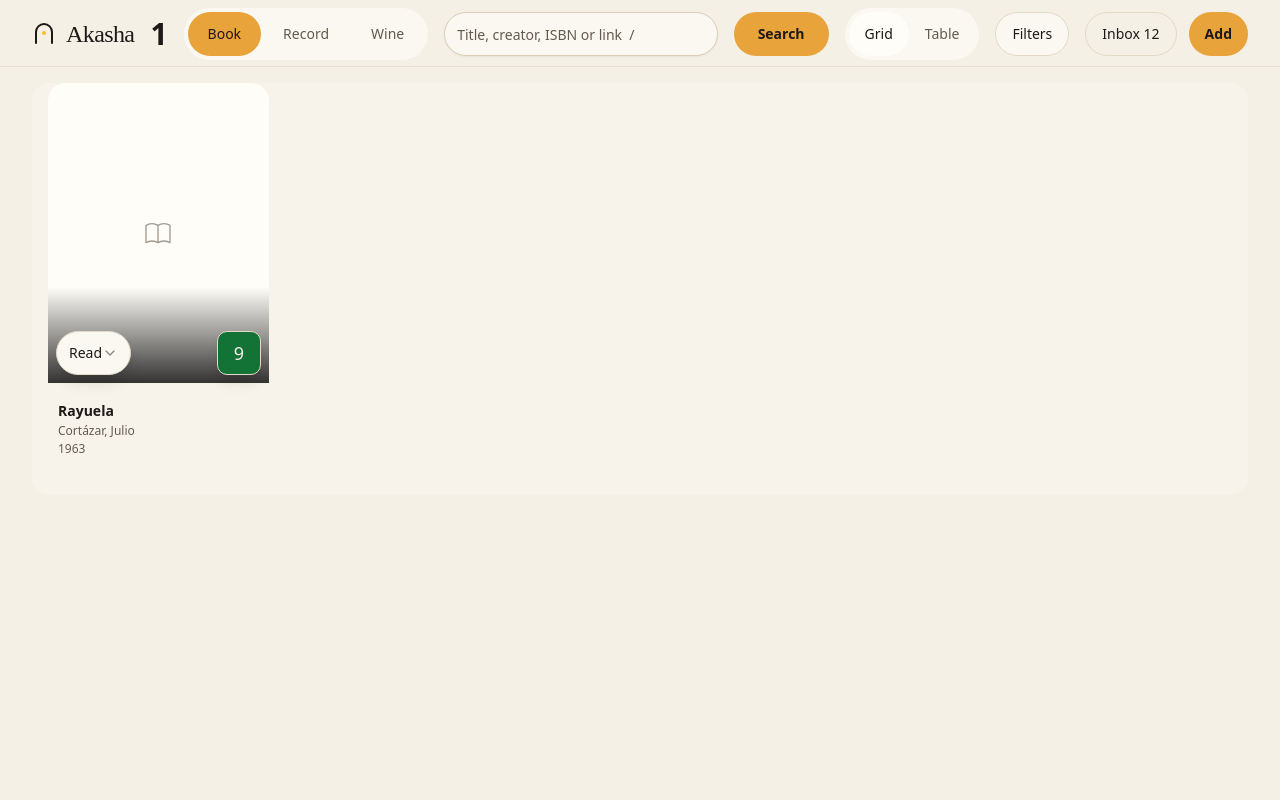
Test: row 7: a failed preview says so and still lets you add
Expected: the heading "Rayuela" is shown, [58,401,114,420]
Type "Dune Messiah" into the search field.
click(581, 34); type("Dune Messiah")  # box [444,12,718,56]
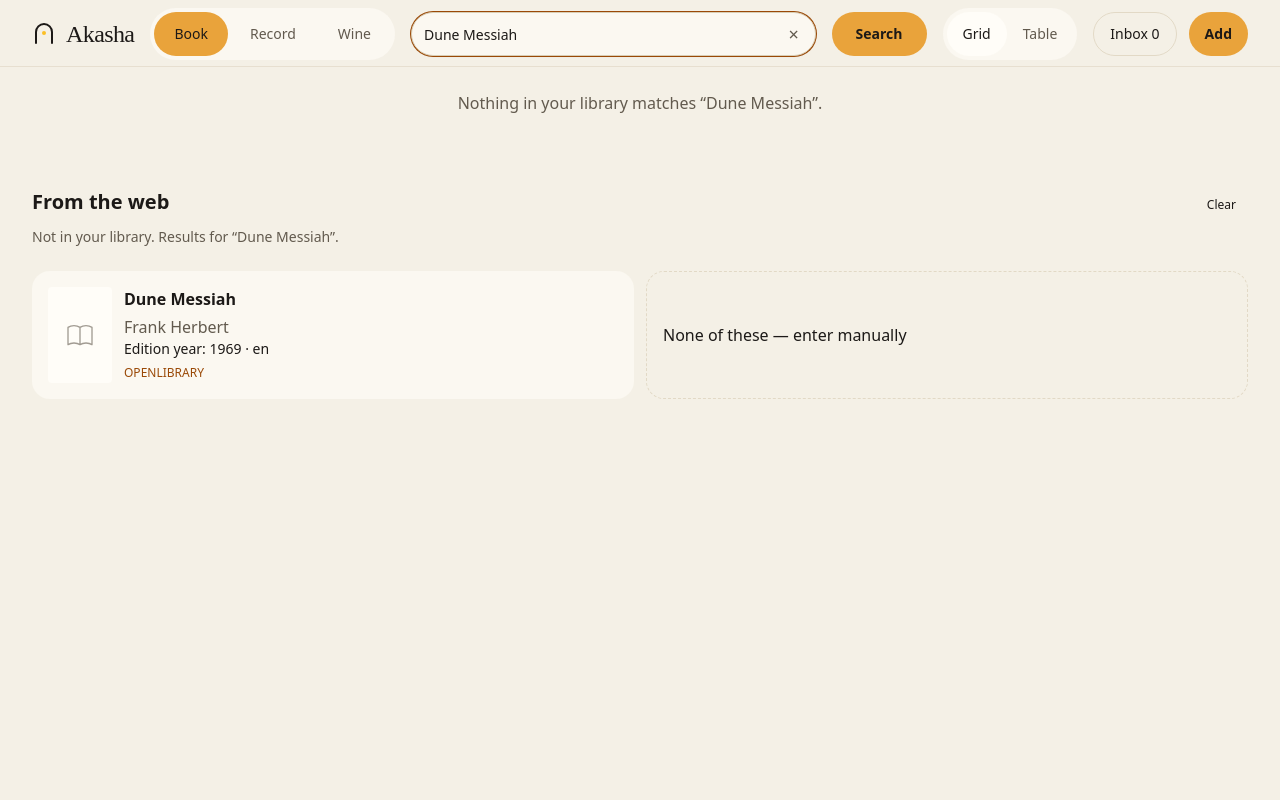
Click the button "Dune Messiah".
click(80, 335)  # box [32,271,634,399]
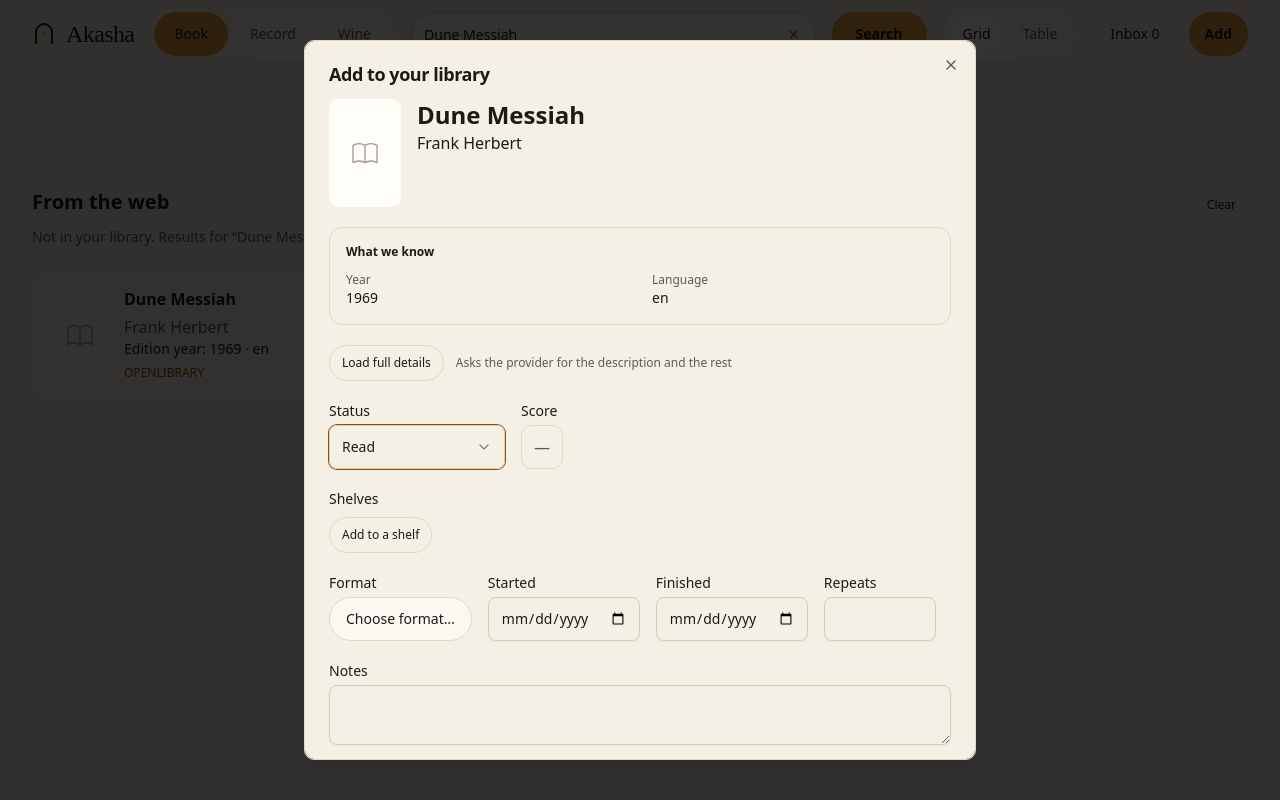
Click the button "Load full details".
click(386, 363)  # box [329,345,444,381]
(page scrolled)
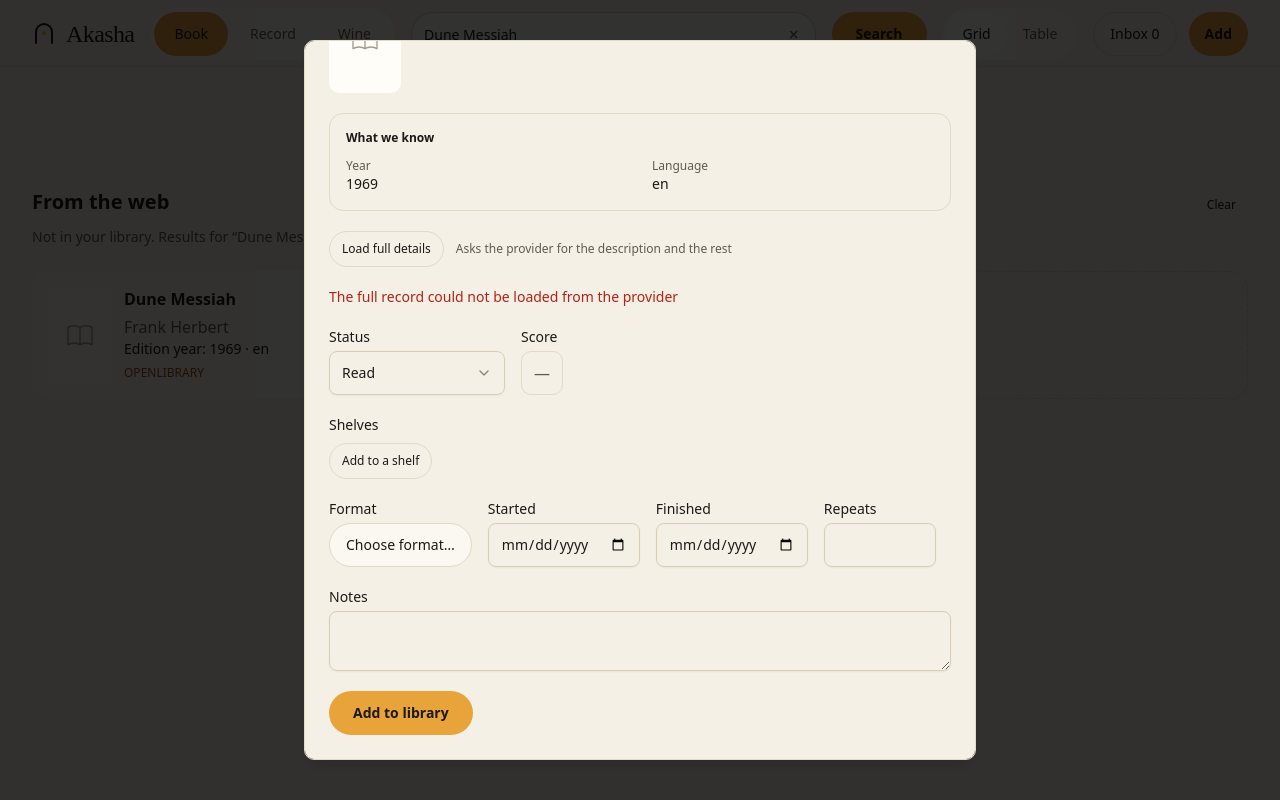
Expected: the message shows "could not be loaded", [329,287,678,306]
Expected: the button "Add to library" is enabled, [329,691,473,735]
